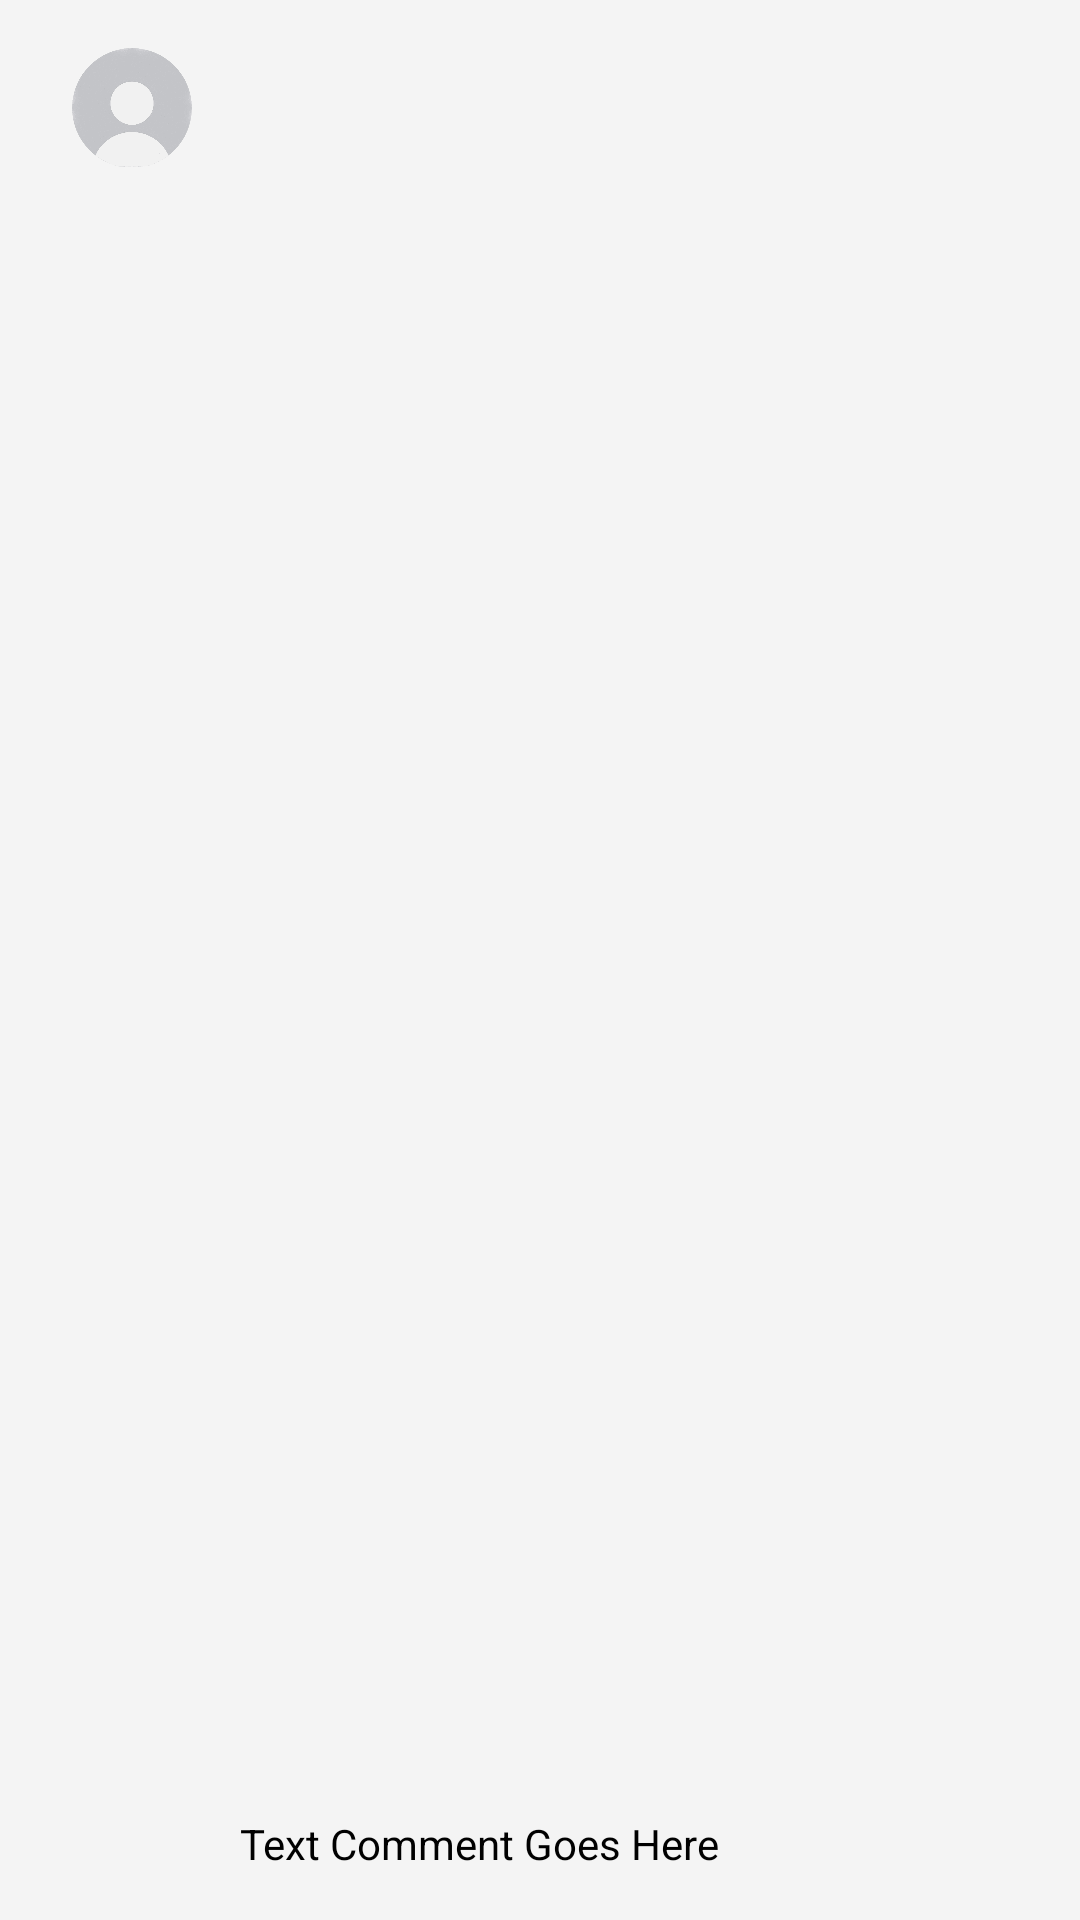

Locate icon controls on the screen. Image size 1080w x 1920h, boxes as bbox=(x1, y1, x2, y2).
profile pic: bbox=(72, 48, 192, 167)
